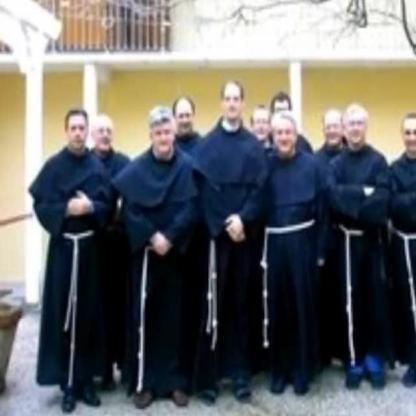other: (25, 67, 398, 121)
